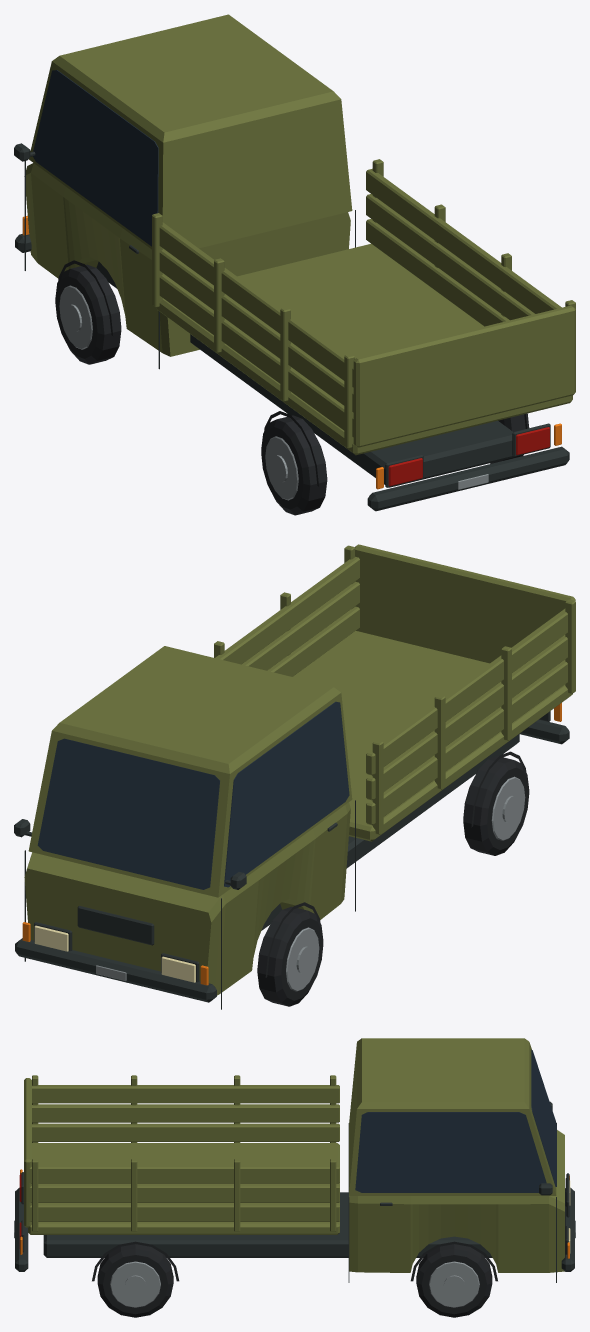
The model's file is 12_FlatbedTruck.fbx.
The picture shows the model from 3 angles, top to bottom: view 1: azimuth 30°, elevation 25°; view 2: azimuth 150°, elevation 25°; view 3: azimuth 270°, elevation 25°; orthographic projection. The views are drawn at different scales.
Parts seen in each view (by area): view 1: Raked cabin with chamfered roof.011, Rear cargo tailboard, Cargo bed platform, Continuous body with open wheel arches.012, Side glass -1 pane 0.010, Truck chassis.001, Open bed horizontal side panel.005, Open bed horizontal side panel.002, Open bed horizontal side panel, Open bed horizontal side panel.001, Open bed horizontal side panel.004, Moulded bumper.023 (+11 smaller); view 2: Raked cabin with chamfered roof.011, Continuous body with open wheel arches.012, Framed opaque windshield.011, Cargo bed platform, Rear cargo tailboard, Side glass -1 pane 0.010, Open bed horizontal side panel.002, Open bed horizontal side panel.001, Open bed horizontal side panel, WheelFL_ShapedSidewall.011, WheelRL_ShapedSidewall.011, Open bed horizontal side panel.005 (+14 smaller); view 3: Raked cabin with chamfered roof.011, Continuous body with open wheel arches.012, Side glass 1 pane 0.010, Cargo bed platform, Truck chassis.001, Open bed horizontal side panel.002, Open bed horizontal side panel, Open bed horizontal side panel.001, Open bed horizontal side panel.003, Open bed horizontal side panel.004, Open bed horizontal side panel.005, WheelFR_ShapedSidewall.011 (+13 smaller).
Part boxes in pixels (x1,y1,x2,y2): Raked cabin with chamfered roof.011: (29, 14, 352, 249); Rear cargo tailboard: (353, 305, 575, 447); Cargo bed platform: (155, 244, 572, 455); Continuous body with open wheel arches.012: (24, 163, 350, 356); Side glass -1 pane 0.010: (33, 70, 158, 246); Truck chassis.001: (96, 261, 515, 487); Open bed horizontal side panel.005: (366, 168, 561, 313); Open bed horizontal side panel.002: (159, 222, 353, 387); Open bed horizontal side panel: (159, 273, 353, 437); Open bed horizontal side panel.001: (159, 248, 353, 412); Open bed horizontal side panel.004: (366, 194, 534, 320); Moulded bumper.023: (367, 446, 569, 511); Raked cabin with chamfered roof.011: (28, 646, 352, 897); Continuous body with open wheel arches.012: (24, 802, 350, 995); Framed opaque windshield.011: (37, 738, 219, 889); Cargo bed platform: (293, 631, 572, 841); Rear cargo tailboard: (354, 544, 575, 663); Side glass -1 pane 0.010: (224, 701, 349, 887); Open bed horizontal side panel.002: (366, 608, 567, 775); Open bed horizontal side panel.001: (366, 635, 567, 800); Open bed horizontal side panel: (366, 659, 567, 825); WheelFL_ShapedSidewall.011: (257, 906, 323, 1006); WheelRL_ShapedSidewall.011: (463, 756, 529, 855); Open bed horizontal side panel.005: (215, 556, 359, 664); Raked cabin with chamfered roof.011: (349, 1038, 556, 1195); Continuous body with open wheel arches.012: (349, 1130, 564, 1272); Side glass 1 pane 0.010: (355, 1112, 546, 1192); Cargo bed platform: (28, 1143, 339, 1234); Truck chassis.001: (43, 1192, 492, 1257); Open bed horizontal side panel.002: (32, 1085, 339, 1103); Open bed horizontal side panel: (32, 1123, 339, 1141); Open bed horizontal side panel.001: (32, 1104, 339, 1122); Open bed horizontal side panel.003: (29, 1203, 339, 1221); Open bed horizontal side panel.004: (29, 1184, 339, 1202); Open bed horizontal side panel.005: (29, 1165, 339, 1183); WheelFR_ShapedSidewall.011: (416, 1244, 492, 1317).
Bounding box in the file's own units: 234 × 257 × 635.
